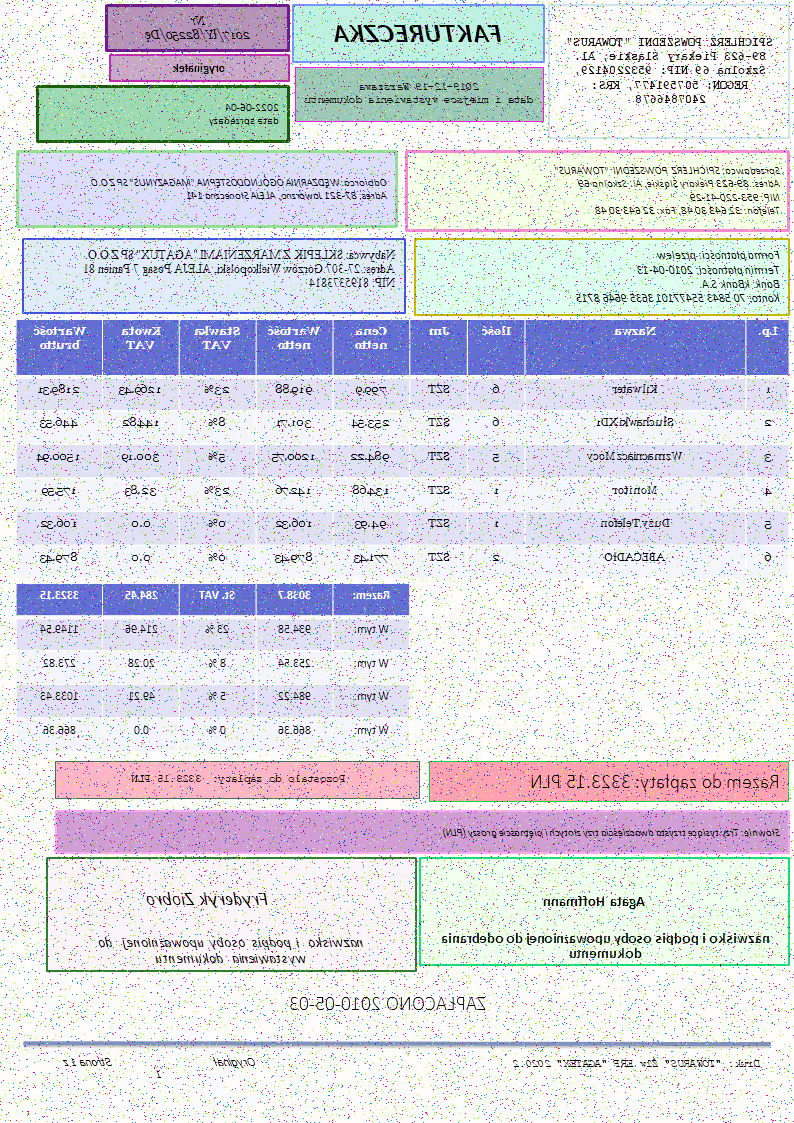Table: (17, 319, 790, 579), (15, 582, 411, 752)
TextBox: (566, 35, 775, 106), (80, 246, 397, 290), (551, 164, 783, 218), (574, 247, 783, 306), (440, 929, 771, 960), (86, 174, 391, 202), (97, 935, 365, 966), (303, 78, 537, 106), (530, 772, 781, 794), (441, 825, 783, 841), (59, 1056, 257, 1080), (287, 993, 488, 1013), (333, 22, 503, 45), (141, 13, 252, 44), (130, 772, 347, 787), (512, 1057, 762, 1070), (144, 888, 271, 911), (207, 101, 281, 128), (542, 894, 647, 911), (171, 60, 227, 77)
